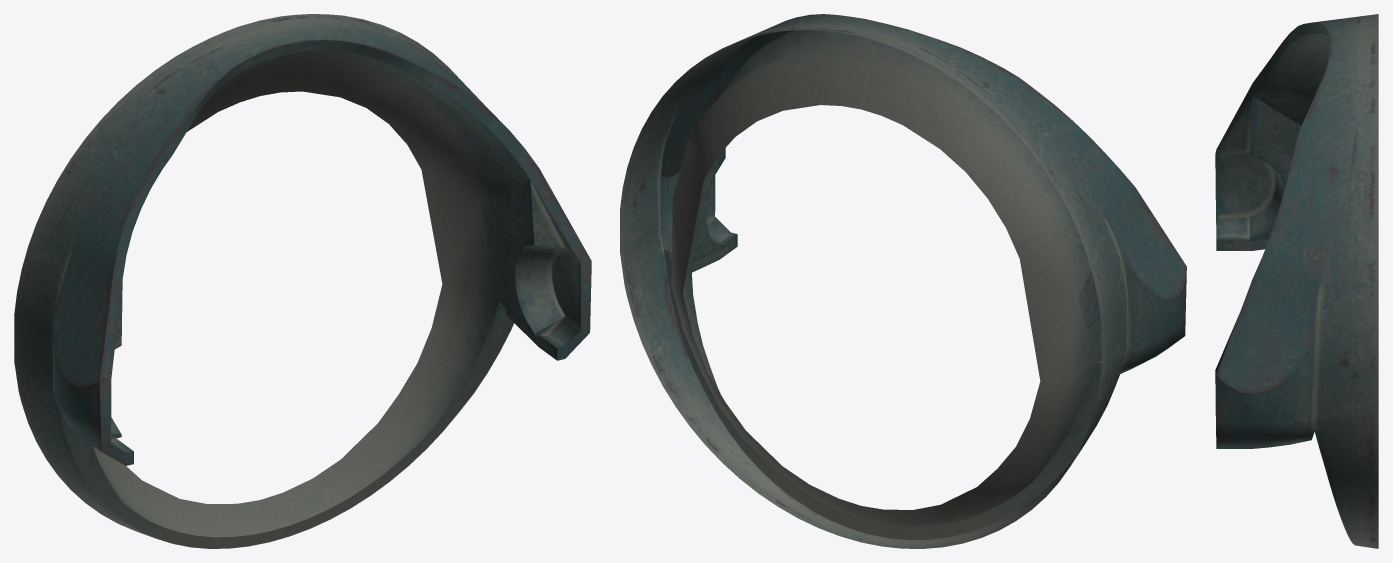
File: Turret_01.glb
3 renders of one model, left to right at view 1: azimuth 30°, elevation 25°; view 2: azimuth 150°, elevation 25°; view 3: azimuth 270°, elevation 25°, orthographic. The views are drawn at different scales.
Visible parts, largest first — view 1: set_0_group_0; view 2: set_0_group_0; view 3: set_0_group_0.
Part boxes in pixels (x1,y1,x2,y2): set_0_group_0: (14,14,591,548); set_0_group_0: (620,14,1186,548); set_0_group_0: (1215,14,1378,548).
Bounding box in the file's own units: 2.53 × 2.44 × 0.7442.
1 material, 1 textured.
